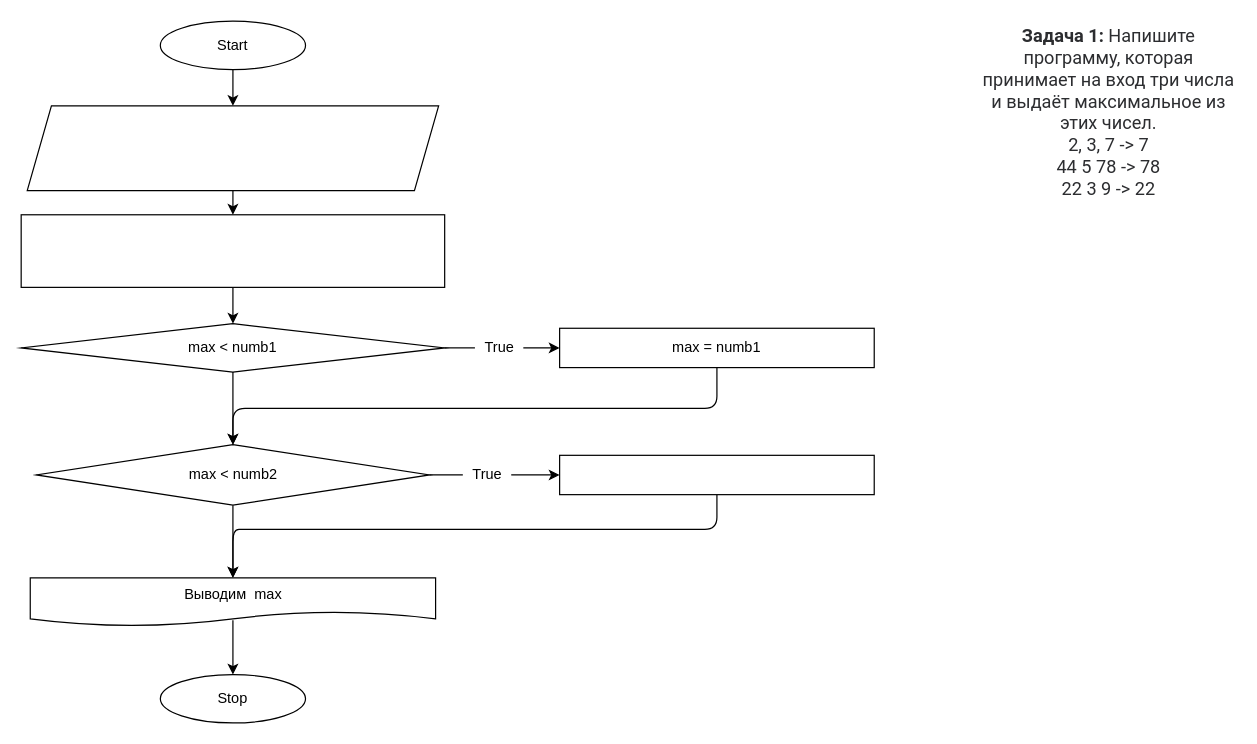
Image size: 1257x744. Some labels were removed from this diagram. The shapes that lost their labels are listed below. From the top down, each one's box as (x1, y1, x2, y2) in pixels, then its label:
(26, 105, 439, 191): Задаем переменные numb0 numb1 numb2 max
(20, 214, 445, 287): Присваиваем переменной max значение numb0
(558, 454, 874, 495): max = numb2
